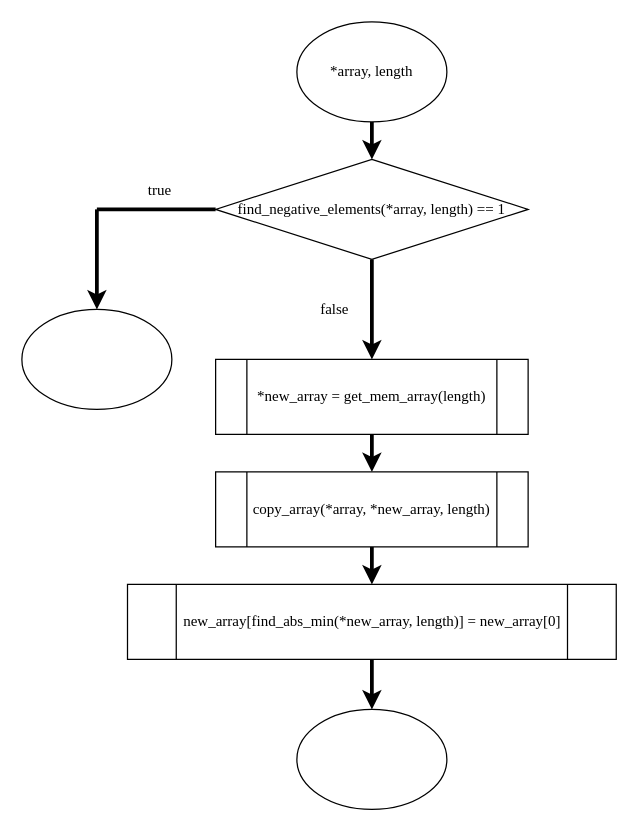
This 639x831 diagram has some shape labels left out. The shapes that lost their labels are listed below. From the top down, each one's centre as x and y in pixels, then its label:
point (96, 358): NULL
point (371, 758): new_array
